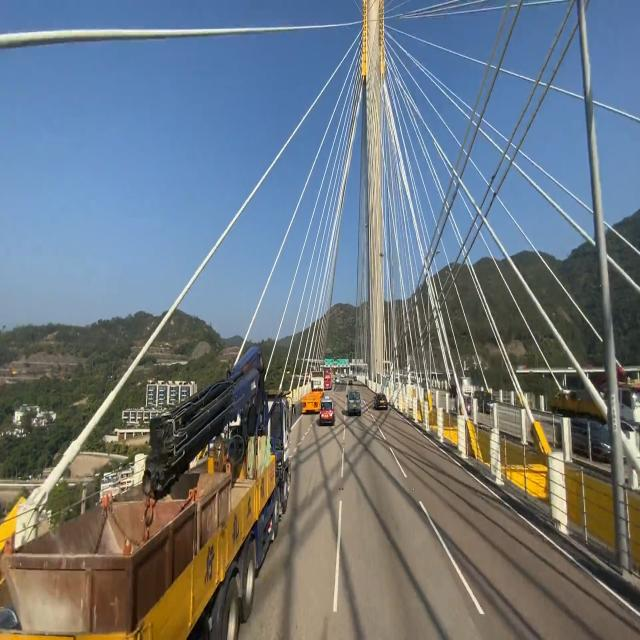Car: (3, 343, 293, 640), (316, 392, 336, 436), (345, 381, 363, 425), (372, 383, 389, 415)
